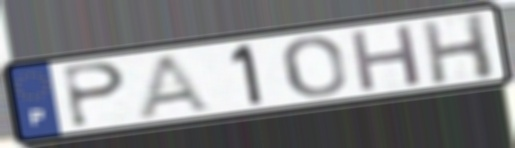1: (227, 42, 267, 107)
A: (133, 51, 217, 120)
H: (417, 10, 499, 87), (346, 21, 426, 95)
O: (279, 34, 350, 100)
P: (60, 59, 129, 129)
